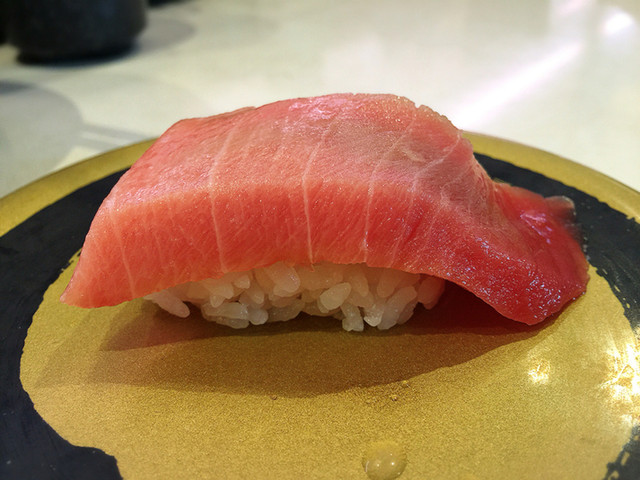medium_fatty_tuna: (65, 92, 589, 344)
